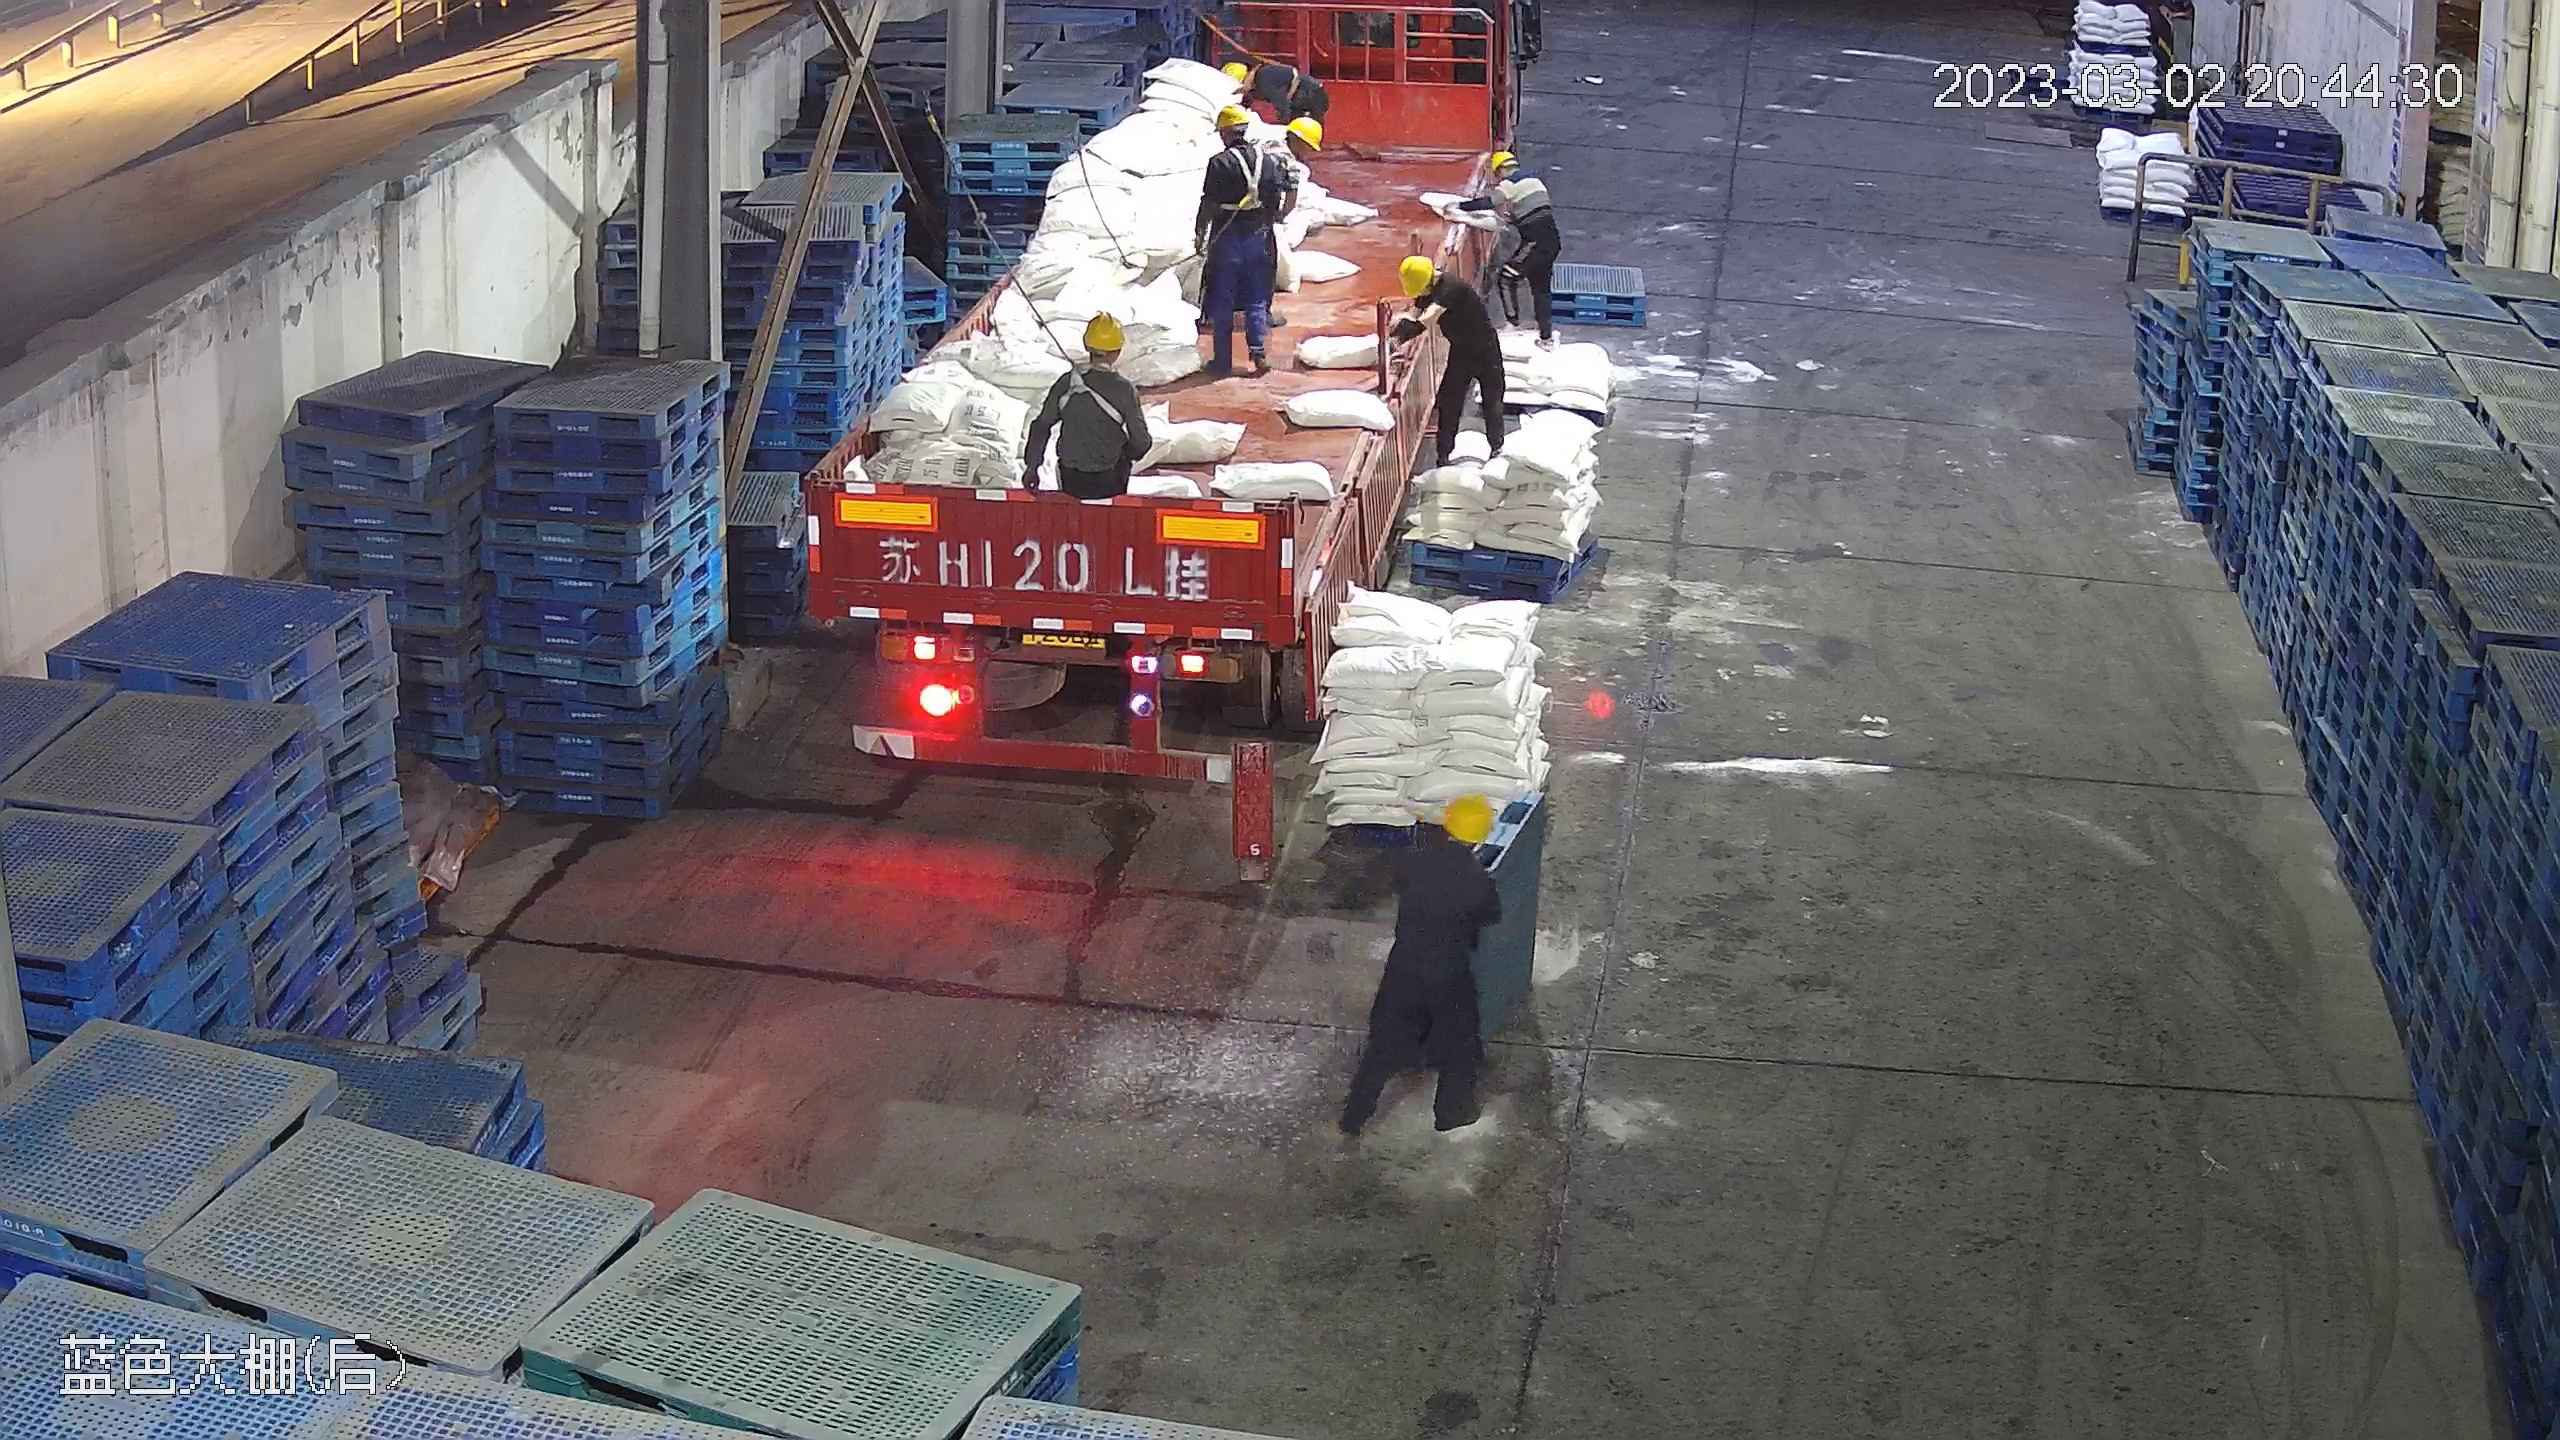belt: (1212, 145, 1271, 212), (1056, 360, 1123, 421), (1263, 59, 1314, 111)
head: (1386, 789, 1500, 915), (1048, 311, 1144, 412), (1393, 255, 1477, 328), (1199, 108, 1275, 188), (1471, 148, 1546, 213)
helmet: (1438, 791, 1494, 843), (1078, 310, 1127, 352), (1395, 253, 1437, 296), (1287, 113, 1323, 151), (1216, 94, 1254, 129), (1221, 57, 1258, 90), (1482, 144, 1514, 167)
people: (1328, 788, 1511, 1142), (1027, 296, 1153, 532), (1385, 250, 1511, 470), (1186, 97, 1284, 373), (1455, 147, 1562, 357)
truck: (811, 30, 1485, 787)
